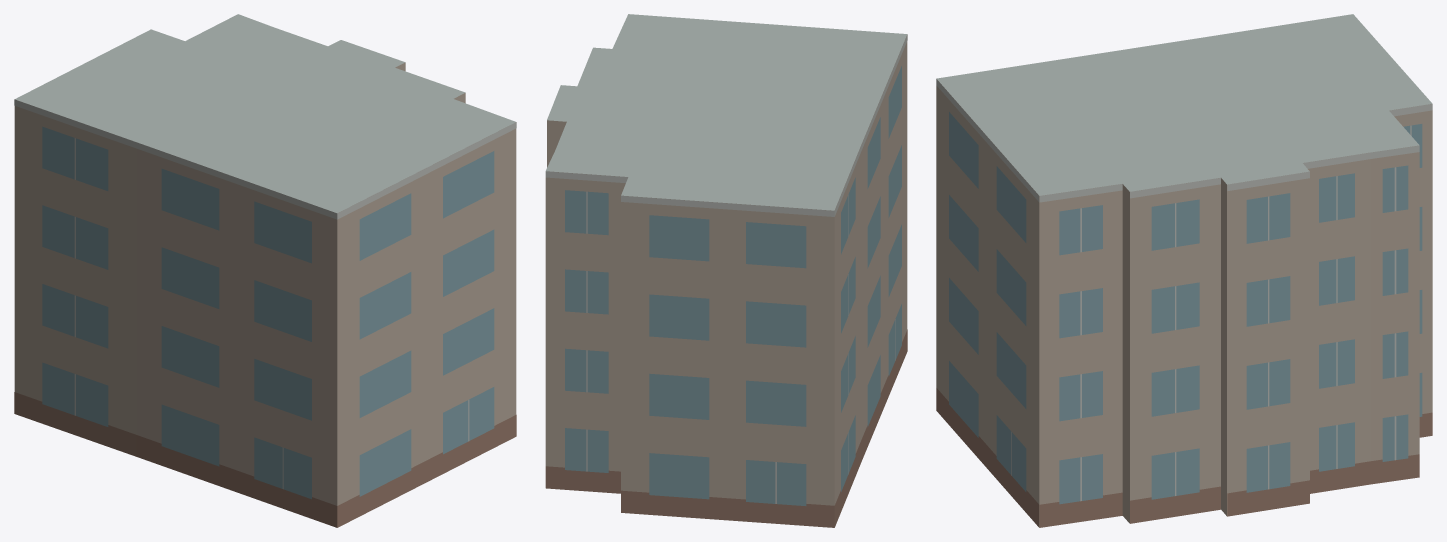
File: survey-upis-32773665.glb
3 views of the same model, side by side, from view 1: azimuth 30°, elevation 25°; view 2: azimuth 150°, elevation 25°; view 3: azimuth 270°, elevation 25° (orthographic). The views are drawn at different scales.
Parts seen in each view (by area): view 1: survey-upis-32773665.tmp; view 2: survey-upis-32773665.tmp; view 3: survey-upis-32773665.tmp.
Boxes of the visible parts, box(x1,y1,x2,y2) form: survey-upis-32773665.tmp: box(14, 14, 516, 527); survey-upis-32773665.tmp: box(545, 14, 907, 527); survey-upis-32773665.tmp: box(936, 14, 1432, 527).
Bounding box in the file's own units: 14.35 × 12.2 × 16.54.
